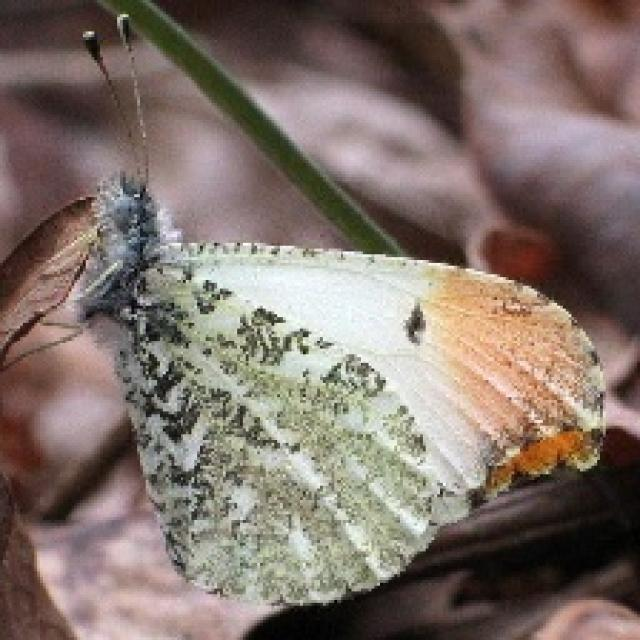butterfly: (83, 13, 605, 606)
